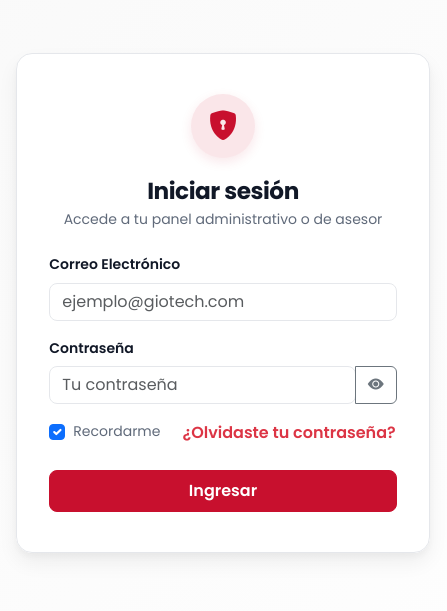
Test: Login Component & Error Mapping › displays Spanish error alert when login fails due to network error
Step 1. Type "admin@giotech.com" into the field with placeholder "ejemplo@giotech.com" → (223, 302), box [49,283,397,321]
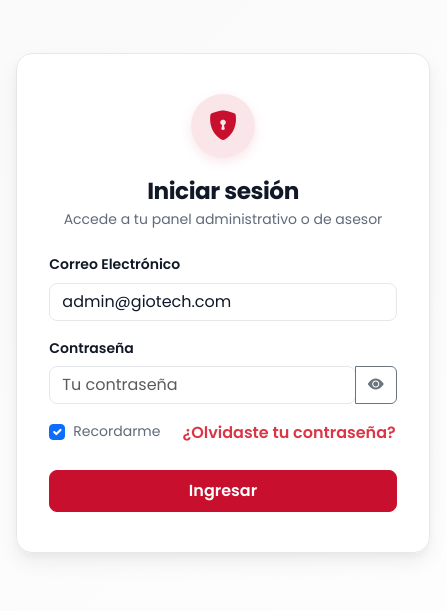
Step 2. Type "password123" into the password field with placeholder "Tu contraseña" → (202, 385), box [49,366,356,404]
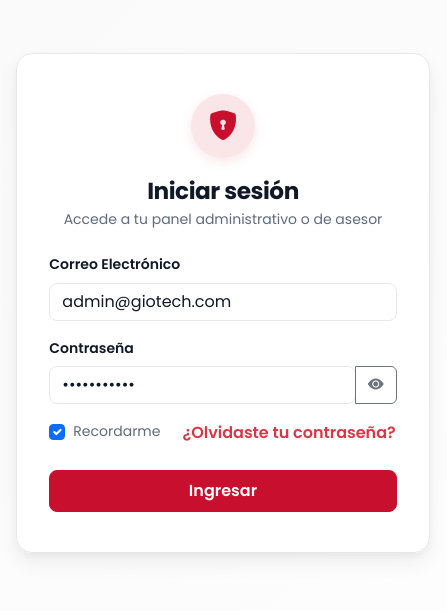
Step 3. Click the button "Ingresar" → (223, 491), box [49,470,397,512]
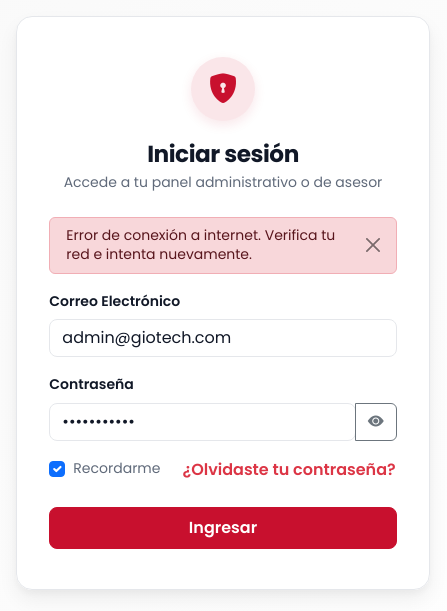
Now the text "Error de conexión a internet. Verifica tu red e intenta nuevamente." is shown, box [49,216,397,274]
